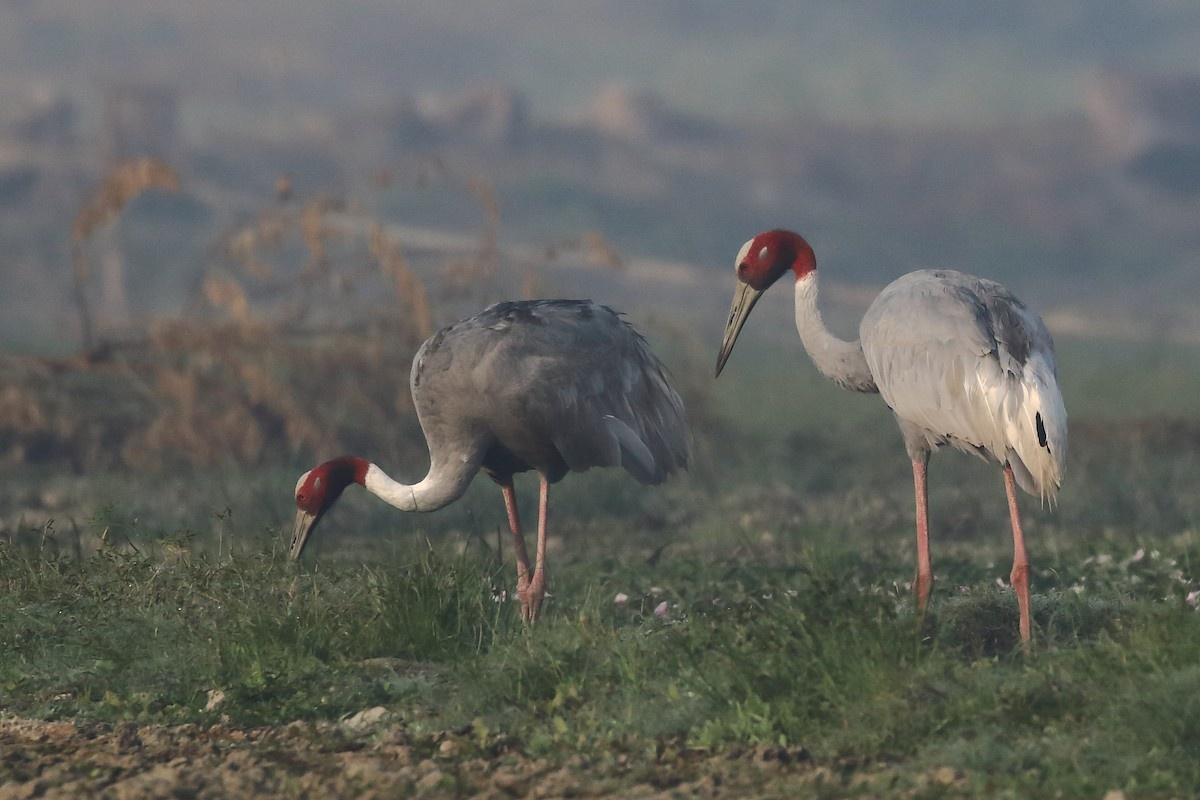crane: (715, 209, 1079, 633), (292, 294, 688, 622)
